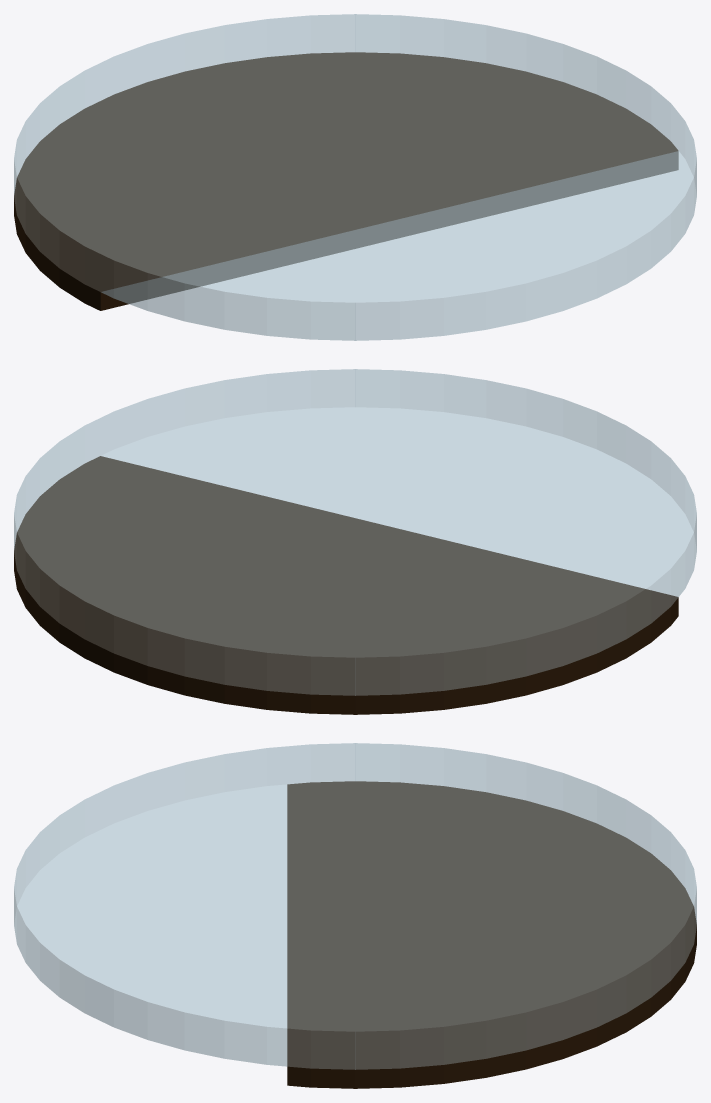
Rendered from sight_glass_ok.glb.
3 renders of one model, top to bottom at view 1: azimuth 30°, elevation 25°; view 2: azimuth 150°, elevation 25°; view 3: azimuth 270°, elevation 25°, orthographic.
Parts seen in each view (by area): view 1: sight_glass_ok; view 2: sight_glass_ok; view 3: sight_glass_ok.
Boxes of the visible parts, x1,y1,x2,y2 form: sight_glass_ok: (14, 14, 696, 340); sight_glass_ok: (14, 369, 696, 714); sight_glass_ok: (14, 743, 696, 1088).
Size of the model in its own units: 0.13 by 0.012 by 0.13.
